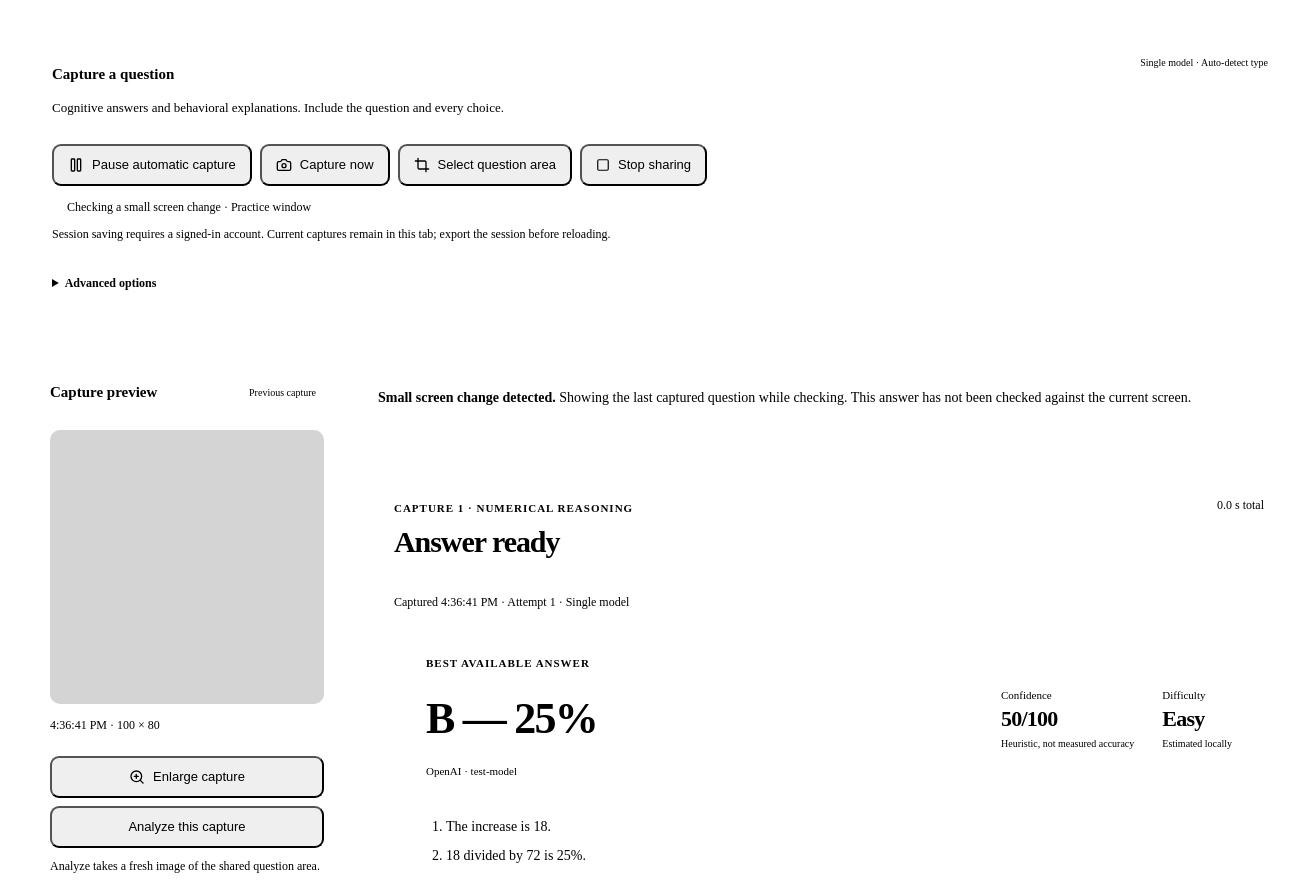
it: aptitude workspace › does not relabel a compact-change answer as current after pause
The width and height of the screenshot is (1292, 887).
Earlier steps of the test are not shown.
Click the button "Pause automatic capture". click: [152, 165]
box: [52,144,252,186]
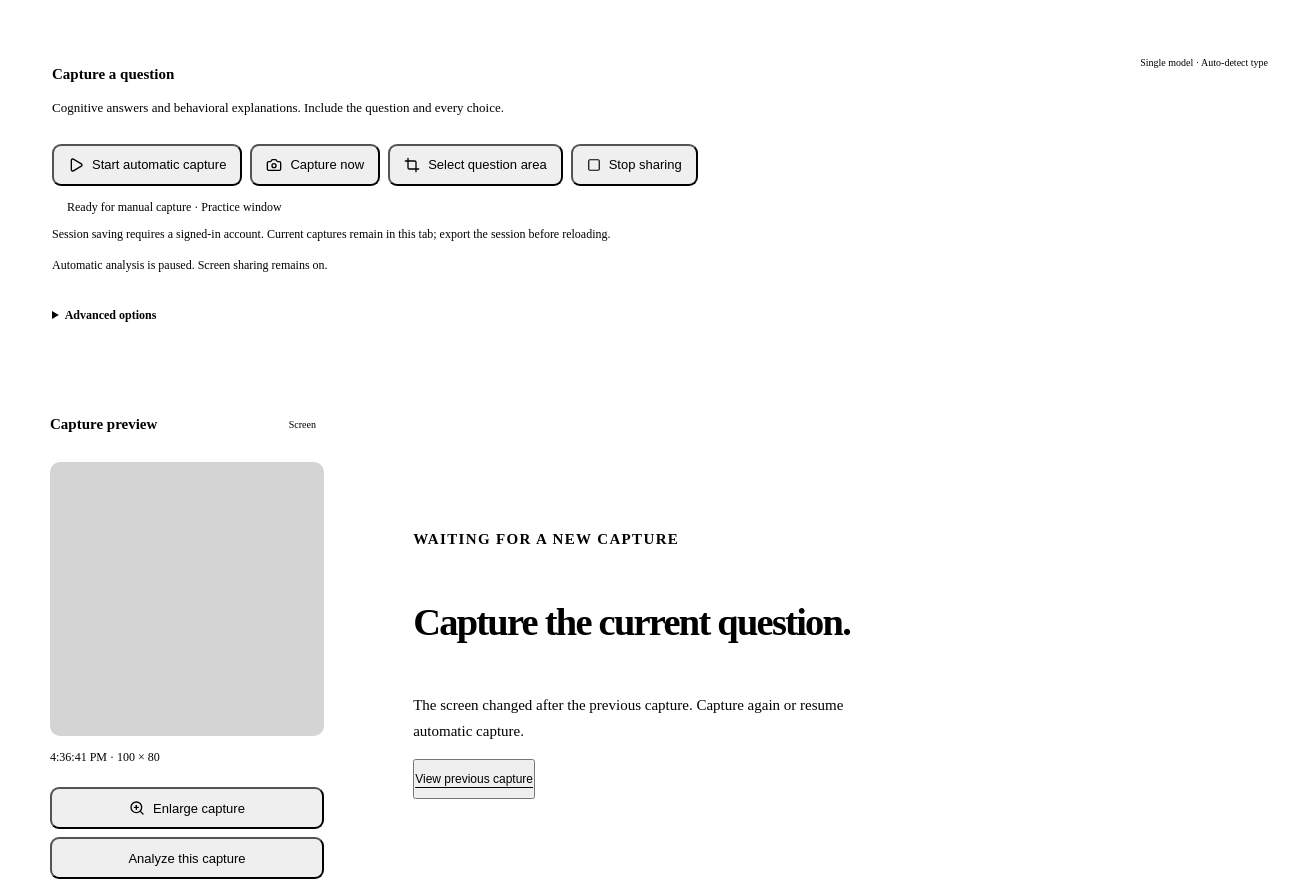
Expected: the heading "B — 25%" is gone
Expected: the heading "Capture the current question." is shown, [413,599,850,645]
Click the button "View previous capture". click: [474, 779]
box: [413,759,535,799]
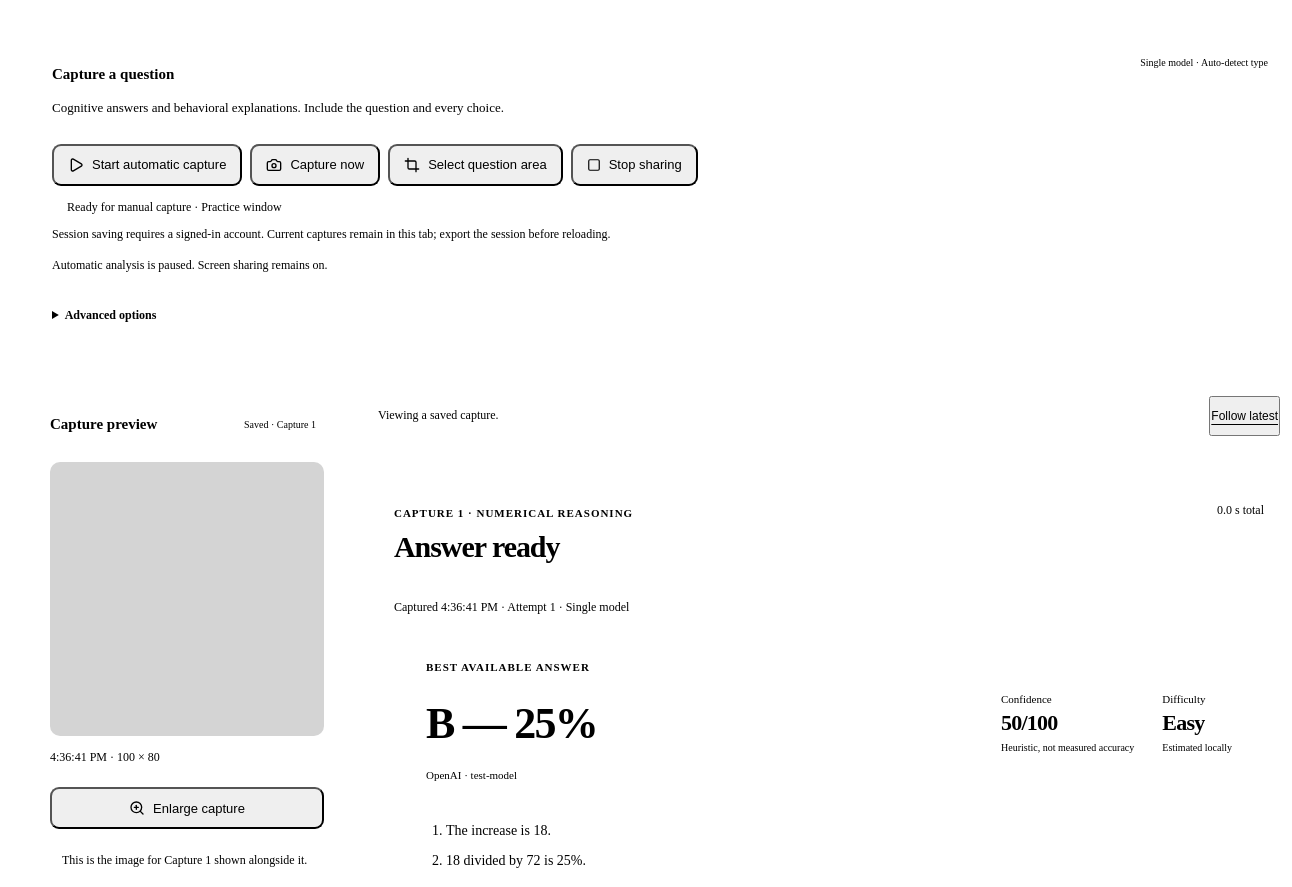
Expected: the text "Viewing a saved capture." is shown, [378,408,499,423]
Expected: the heading "B — 25%" is shown, [426,699,597,748]
